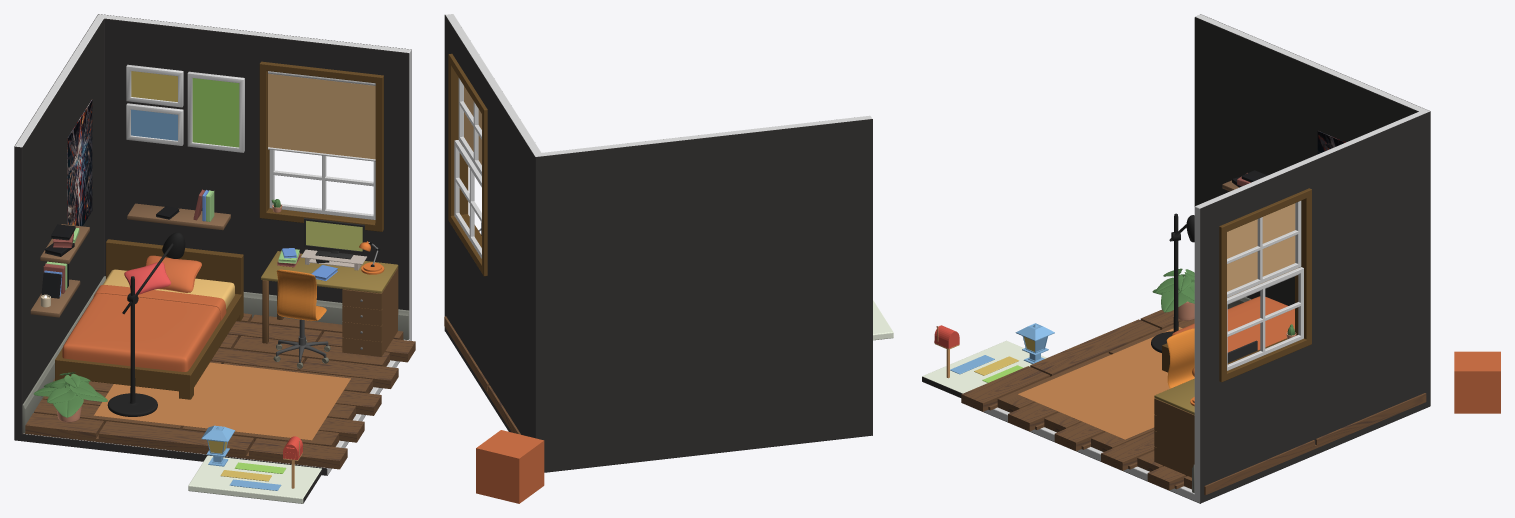
Rendered from IsometricRoom16.glb.
The picture shows the model from 3 angles, left to right: view 1: azimuth 30°, elevation 25°; view 2: azimuth 150°, elevation 25°; view 3: azimuth 270°, elevation 25°; orthographic projection. The views are drawn at different scales.
Parts seen in each view (by area): view 1: Walls, BedTable, SkirtingFloor, FloorItems, Shelfs, TableItems, Platform, PictureBig, Poster, Computer, FrameBig, PictureBottomLeft (+5 smaller); view 2: Walls, Cube.001, SkirtingFloor, Platform; view 3: Walls, SkirtingFloor, FloorItems, BedTable, Cube.001, Platform, Lantern.
Boxes of the visible parts, box(x1,y1,x2,y2) form: Walls: box(14, 14, 411, 475); BedTable: box(55, 239, 398, 399); SkirtingFloor: box(22, 276, 415, 469); FloorItems: box(33, 232, 350, 440); Shelfs: box(30, 189, 230, 317); TableItems: box(124, 241, 384, 294); Platform: box(188, 455, 322, 503); PictureBig: box(192, 78, 239, 147); Poster: box(67, 100, 92, 226); Computer: box(304, 218, 364, 259); FrameBig: box(187, 71, 244, 152); PictureBottomLeft: box(131, 109, 177, 140); Walls: box(444, 14, 872, 472); Cube.001: box(476, 430, 544, 503); SkirtingFloor: box(444, 316, 520, 434); Platform: box(873, 300, 893, 340); Walls: box(983, 14, 1430, 503); SkirtingFloor: box(961, 297, 1426, 495); FloorItems: box(1018, 213, 1194, 439); BedTable: box(1154, 296, 1294, 477); Cube.001: box(1454, 351, 1500, 413); Platform: box(922, 340, 1046, 397); Lantern: box(1015, 323, 1054, 363).
Bounding box in the file's own units: 5.66 × 4 × 7.11.
Materials: 42 (2 with a texture image).
